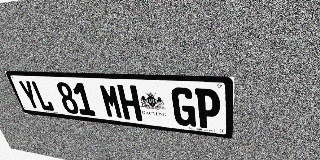1: (70, 82, 96, 116)
8: (55, 82, 80, 114)
G: (171, 87, 196, 127)
H: (117, 85, 143, 121)
L: (30, 81, 55, 112)
M: (98, 84, 124, 119)
P: (195, 88, 220, 130)
Y: (17, 80, 42, 110)
